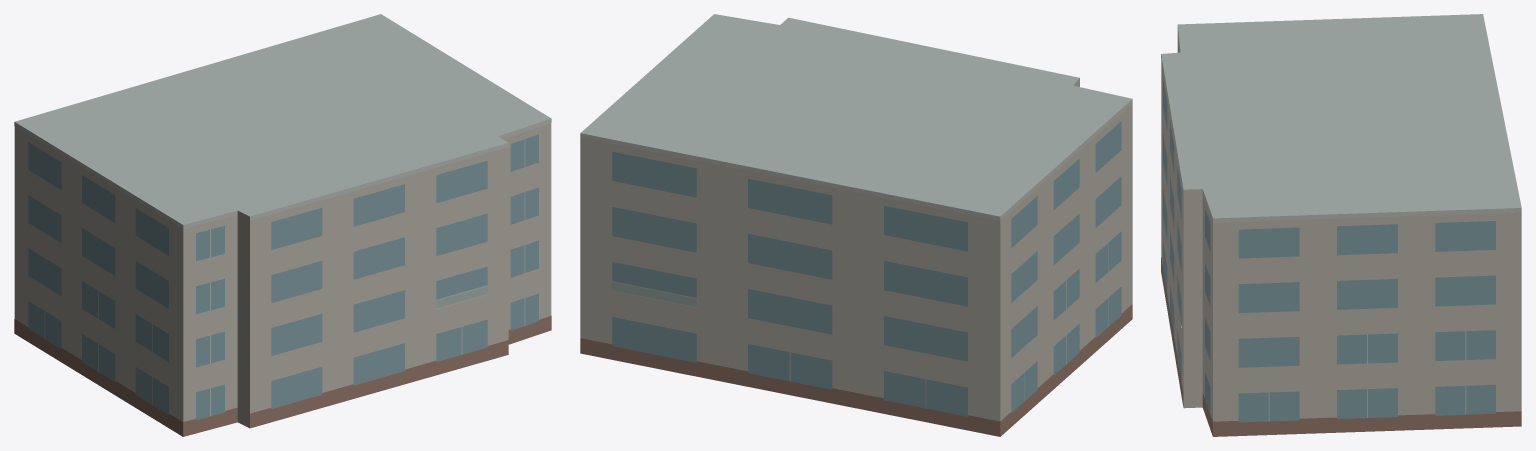
Rendered from survey-upis-33034015.glb.
The picture shows the model from 3 angles, left to right: view 1: azimuth 30°, elevation 25°; view 2: azimuth 150°, elevation 25°; view 3: azimuth 270°, elevation 25°; orthographic projection. The views are drawn at different scales.
Visible parts, largest first — view 1: survey-upis-33034015.tmp; view 2: survey-upis-33034015.tmp; view 3: survey-upis-33034015.tmp.
Boxes of the visible parts, x1,y1,x2,y2 form: survey-upis-33034015.tmp: [14, 14, 551, 436]; survey-upis-33034015.tmp: [580, 14, 1132, 436]; survey-upis-33034015.tmp: [1161, 14, 1521, 436].
Bounding box in the file's own units: 24.48 × 12.2 × 18.25.
